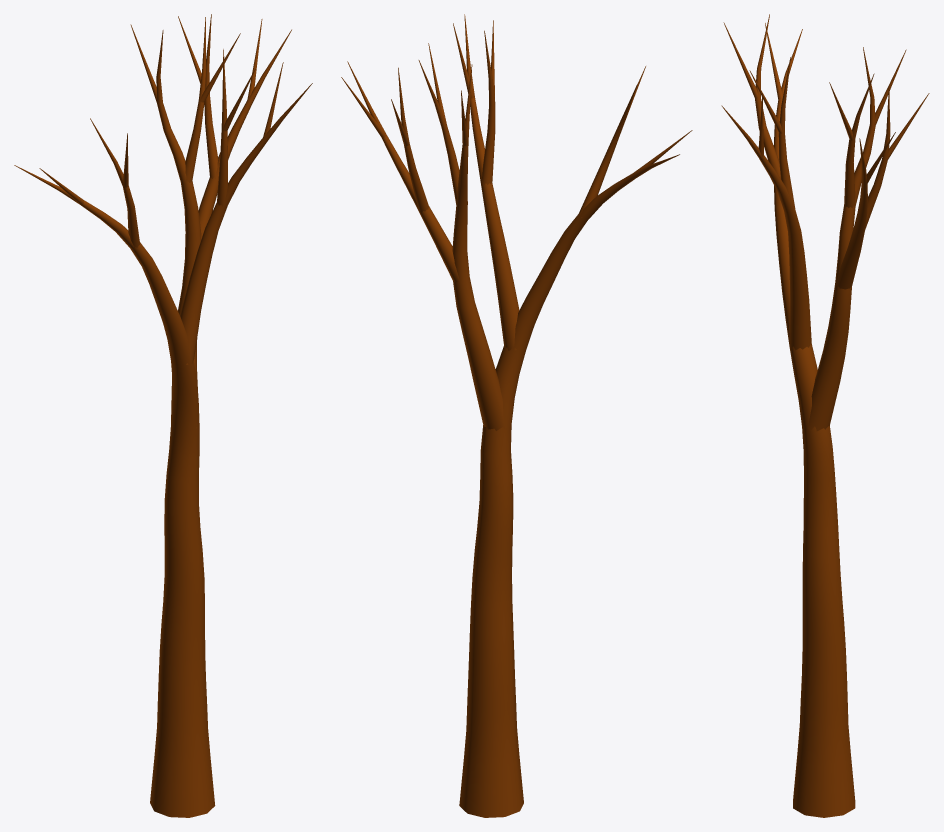
File: TREE_TRUNK_2.fbx
3 renders of one model, left to right at view 1: azimuth 30°, elevation 25°; view 2: azimuth 150°, elevation 25°; view 3: azimuth 270°, elevation 25°, orthographic.
Parts seen in each view (by area): view 1: tree.006; view 2: tree.006; view 3: tree.006.
Boxes of the visible parts, x1=… form: tree.006: x1=14, y1=14, x2=312, y2=817; tree.006: x1=341, y1=14, x2=692, y2=817; tree.006: x1=721, y1=14, x2=929, y2=817.
Bounding box in the file's own units: 274 × 651 × 162.
